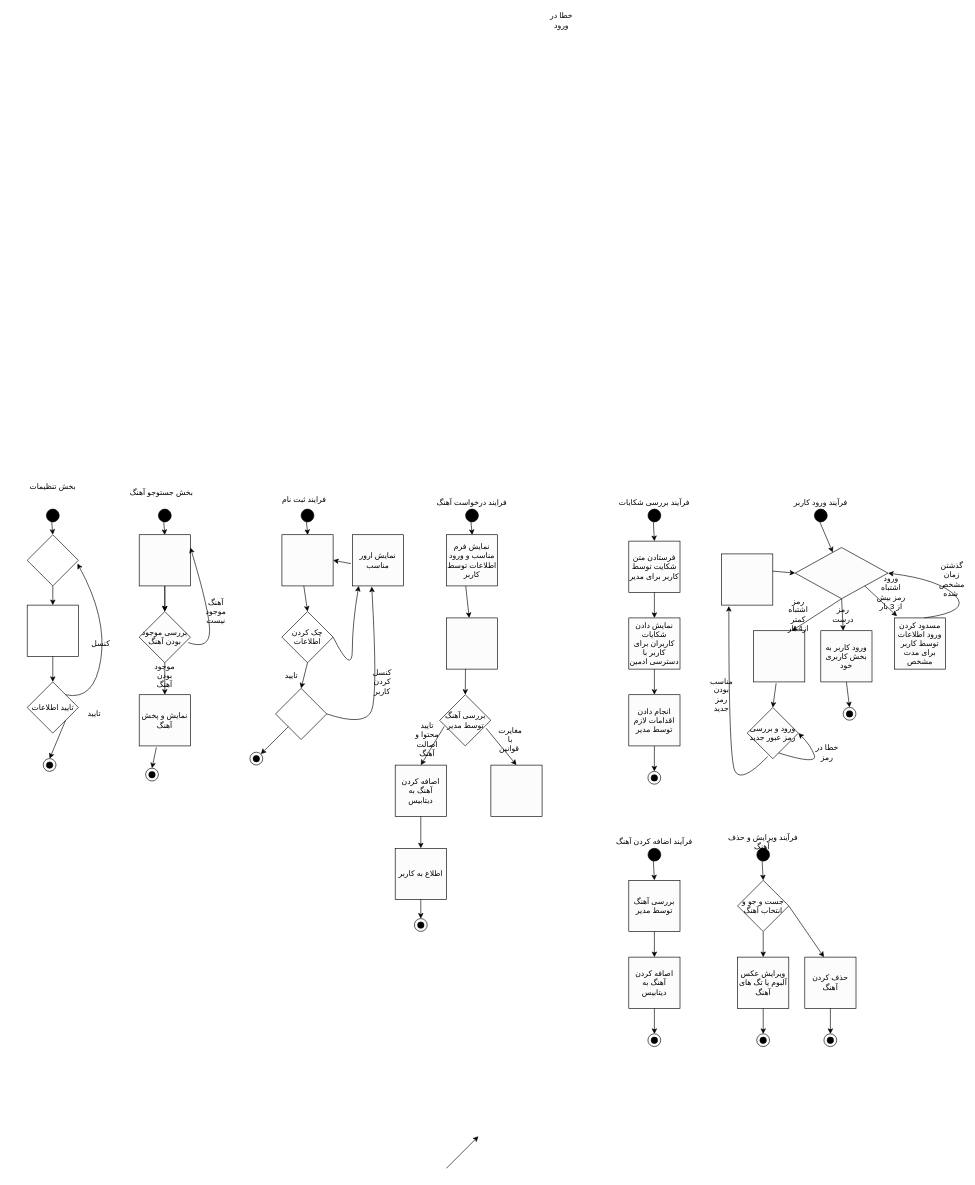
Some shapes in this 975 by 1185 pixel diagram are drawn without their labels. The box of each missing label's shape, as (x1, y1, x2, y2) in pixels:
اطلاع نتیجه به کاربر: (490, 764, 542, 816)
بررسی درست بودن اطلاعات ورود و شمردن تعداد دفعات خطا در ورود اطلاعات: (795, 547, 888, 599)
تایید کاربر: (275, 688, 327, 740)
تنظیم رمز عبور جدید: (721, 553, 773, 605)
فرستاده شدن درخواست برای مدیر: (446, 617, 498, 669)
منوی تنظیمات: (27, 534, 78, 586)
نمایش فرم فراموشی رمز عبور: (753, 630, 805, 682)
ورود اطلاعات آهنگ: (139, 534, 190, 586)
ورود اطلاعات جدید: (27, 604, 78, 656)
ورود اطلاعات کاربر: (281, 534, 333, 586)
